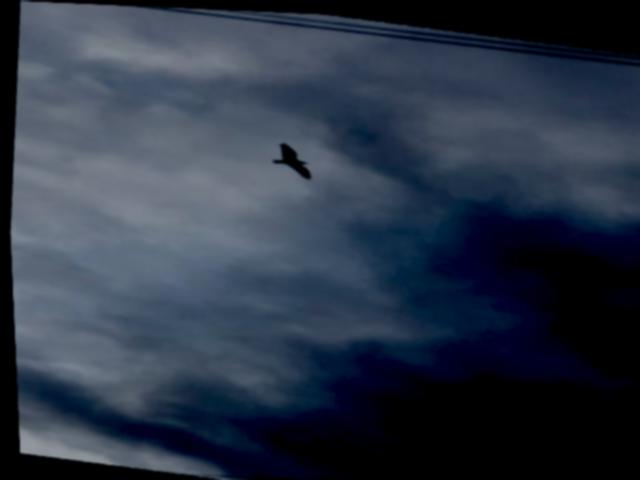bird: (256, 133, 328, 178)
